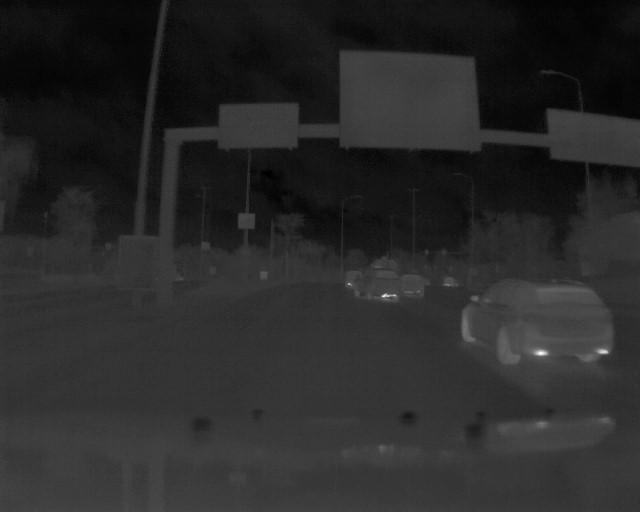car: (457, 277, 619, 369), (350, 266, 404, 307), (394, 273, 426, 301)
